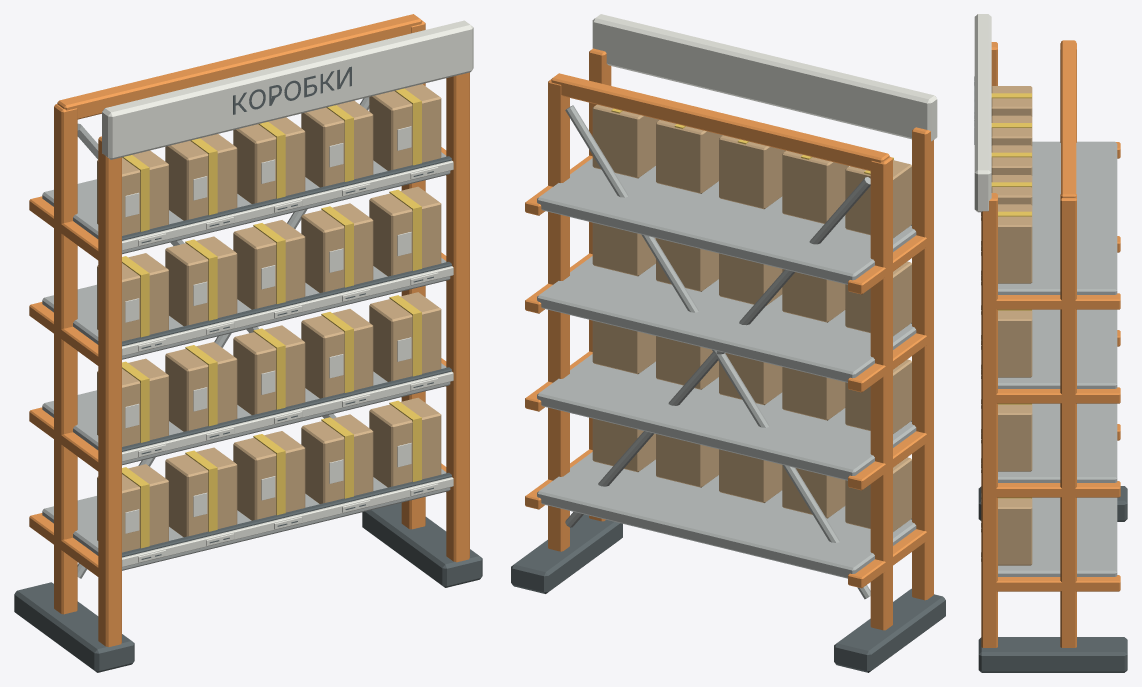
File: Shelf_Boxes.fbx
3 views of the same model, side by side, from view 1: azimuth 30°, elevation 25°; view 2: azimuth 150°, elevation 25°; view 3: azimuth 270°, elevation 25° (orthographic). The views are drawn at different scales.
Visible parts, largest first — view 1: Shelf_Boxes__LPCXFER, Shelf_Boxes__Header_warehouse__LPCXFER, Shelf_Boxes__Shelf_1__LPCXFER, Shelf_Boxes__Shelf_2__LPCXFER, Shelf_Boxes__Shelf_3__LPCXFER, Shelf_Boxes__Shelf_4__LPCXFER, Shelf_Boxes_Item_2_F_5_box__LPCXFER, Shelf_Boxes_Item_1_F_5_box__LPCXFER, Shelf_Boxes_Item_3_F_2_box__LPCXFER, Shelf_Boxes_Item_3_F_5_box__LPCXFER, Shelf_Boxes_Item_1_F_3_box__LPCXFER, Shelf_Boxes_Item_2_F_3_box__LPCXFER (+16 smaller); view 2: Shelf_Boxes__LPCXFER, Shelf_Boxes__Shelf_2__LPCXFER, Shelf_Boxes__Shelf_3__LPCXFER, Shelf_Boxes__Shelf_1__LPCXFER, Shelf_Boxes__Shelf_4__LPCXFER, Shelf_Boxes__Header_warehouse__LPCXFER, Shelf_Boxes__Back_warehouse__LPCXFER, Shelf_Boxes_Item_4_F_3_box__LPCXFER, Shelf_Boxes_Item_4_F_4_box__LPCXFER, Shelf_Boxes_Item_4_F_2_box__LPCXFER, Shelf_Boxes_Item_4_F_5_box__LPCXFER, Shelf_Boxes_Item_4_F_1_box__LPCXFER (+15 smaller); view 3: Shelf_Boxes__LPCXFER, Shelf_Boxes__Shelf_4__LPCXFER, Shelf_Boxes__Shelf_2__LPCXFER, Shelf_Boxes__Shelf_3__LPCXFER, Shelf_Boxes__Shelf_1__LPCXFER, Shelf_Boxes__Header_warehouse__LPCXFER, Shelf_Boxes_Item_4_F_5_box__LPCXFER, Shelf_Boxes_Item_1_F_5_box__LPCXFER, Shelf_Boxes_Item_2_F_5_box__LPCXFER, Shelf_Boxes_Item_3_F_5_box__LPCXFER, Shelf_Boxes_Item_4_F_2_box__LPCXFER, Shelf_Boxes_Item_4_F_1_box__LPCXFER (+2 smaller).
Boxes of the visible parts, <box> form: Shelf_Boxes__LPCXFER: <box>14,14,482,672</box>; Shelf_Boxes__Header_warehouse__LPCXFER: <box>102,20,473,159</box>; Shelf_Boxes__Shelf_1__LPCXFER: <box>42,469,453,570</box>; Shelf_Boxes__Shelf_2__LPCXFER: <box>42,363,453,465</box>; Shelf_Boxes__Shelf_3__LPCXFER: <box>42,258,453,359</box>; Shelf_Boxes__Shelf_4__LPCXFER: <box>42,152,453,254</box>; Shelf_Boxes_Item_2_F_5_box__LPCXFER: <box>369,292,441,381</box>; Shelf_Boxes_Item_1_F_5_box__LPCXFER: <box>369,397,441,487</box>; Shelf_Boxes_Item_3_F_2_box__LPCXFER: <box>165,236,237,326</box>; Shelf_Boxes_Item_3_F_5_box__LPCXFER: <box>369,186,441,276</box>; Shelf_Boxes_Item_1_F_3_box__LPCXFER: <box>233,431,305,520</box>; Shelf_Boxes_Item_2_F_3_box__LPCXFER: <box>233,325,305,414</box>; Shelf_Boxes__LPCXFER: <box>511,48,945,672</box>; Shelf_Boxes__Shelf_2__LPCXFER: <box>537,354,916,480</box>; Shelf_Boxes__Shelf_3__LPCXFER: <box>537,256,916,382</box>; Shelf_Boxes__Shelf_1__LPCXFER: <box>537,452,916,578</box>; Shelf_Boxes__Shelf_4__LPCXFER: <box>537,158,916,284</box>; Shelf_Boxes__Header_warehouse__LPCXFER: <box>592,14,937,141</box>; Shelf_Boxes__Back_warehouse__LPCXFER: <box>565,105,870,599</box>; Shelf_Boxes_Item_4_F_3_box__LPCXFER: <box>719,135,785,209</box>; Shelf_Boxes_Item_4_F_4_box__LPCXFER: <box>656,120,722,193</box>; Shelf_Boxes_Item_4_F_2_box__LPCXFER: <box>782,151,848,223</box>; Shelf_Boxes_Item_4_F_5_box__LPCXFER: <box>592,104,659,178</box>; Shelf_Boxes_Item_4_F_1_box__LPCXFER: <box>845,157,911,238</box>; Shelf_Boxes__LPCXFER: <box>978,40,1127,672</box>; Shelf_Boxes__Shelf_4__LPCXFER: <box>981,141,1117,294</box>; Shelf_Boxes__Shelf_2__LPCXFER: <box>981,340,1117,482</box>; Shelf_Boxes__Shelf_3__LPCXFER: <box>981,246,1117,388</box>; Shelf_Boxes__Shelf_1__LPCXFER: <box>981,434,1117,576</box>; Shelf_Boxes__Header_warehouse__LPCXFER: <box>974,14,991,212</box>; Shelf_Boxes_Item_4_F_5_box__LPCXFER: <box>998,204,1032,283</box>; Shelf_Boxes_Item_1_F_5_box__LPCXFER: <box>998,497,1032,565</box>; Shelf_Boxes_Item_2_F_5_box__LPCXFER: <box>998,403,1032,471</box>; Shelf_Boxes_Item_3_F_5_box__LPCXFER: <box>998,309,1032,377</box>; Shelf_Boxes_Item_4_F_2_box__LPCXFER: <box>991,115,1032,145</box>; Shelf_Boxes_Item_4_F_1_box__LPCXFER: <box>991,86,1032,116</box>.
Size of the model in its own units: 154 by 212 by 59.15.
